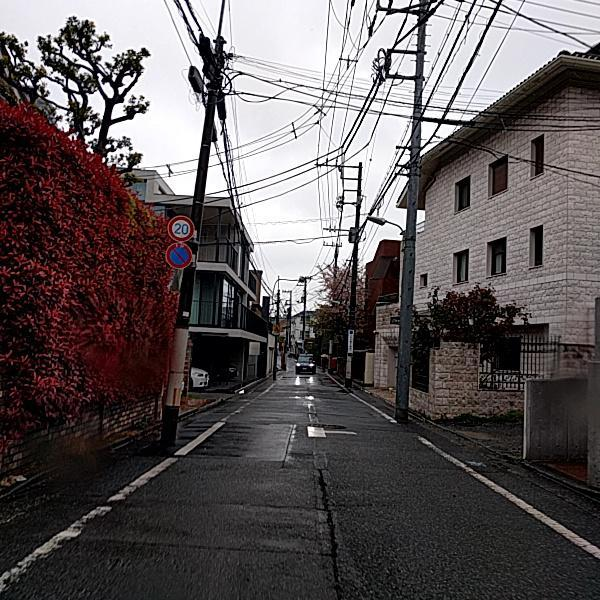D00: (309, 463, 349, 598)
D10: (326, 494, 391, 512)
D44: (0, 412, 225, 597)
D50: (304, 422, 357, 437)
